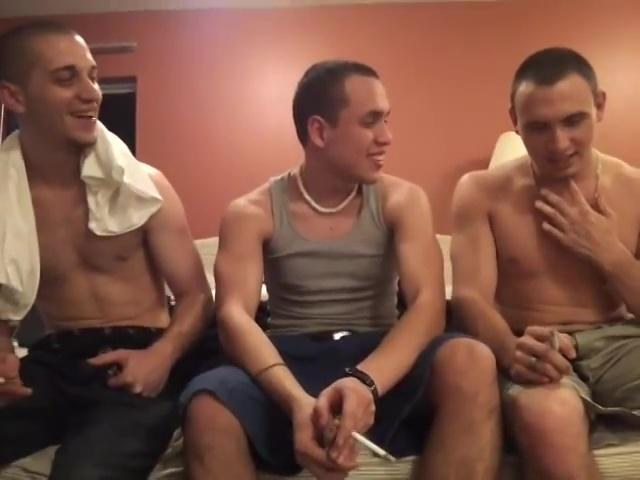cigarette: (347, 426, 398, 462), (547, 325, 560, 355)
